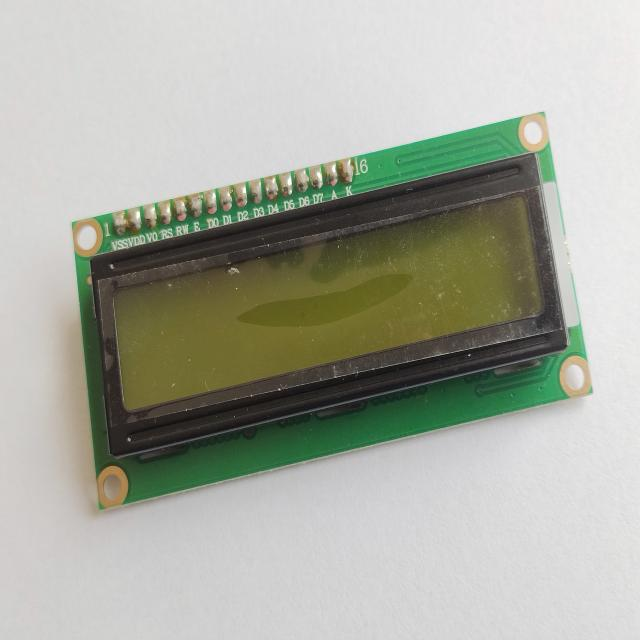lcd: (70, 110, 593, 510)
